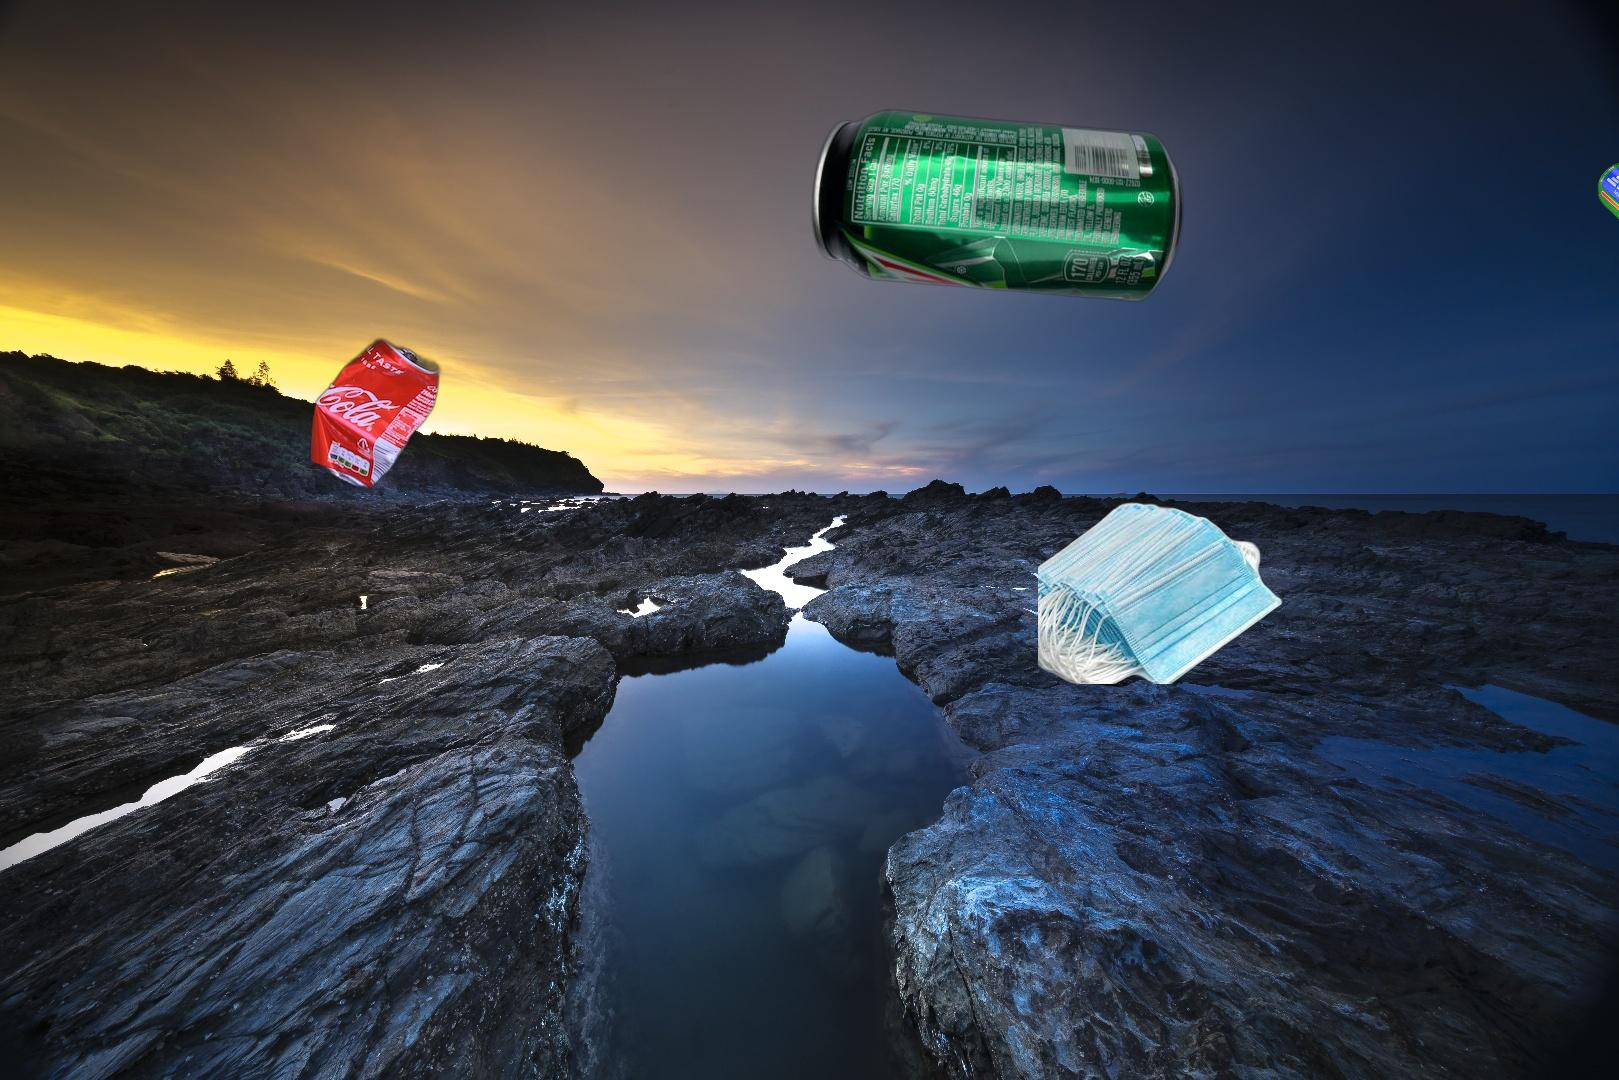battery: (1595, 149, 1619, 316)
metal-cans: (806, 106, 1187, 305), (306, 334, 445, 494)
trash: (1038, 501, 1286, 683)
